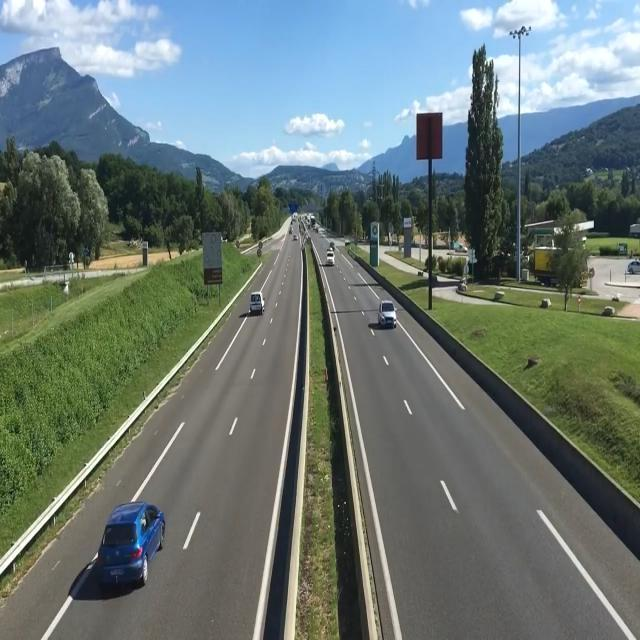Car: (97, 501, 167, 589), (376, 300, 399, 328), (626, 259, 640, 275), (292, 234, 298, 241)
Van: (249, 292, 266, 314)
